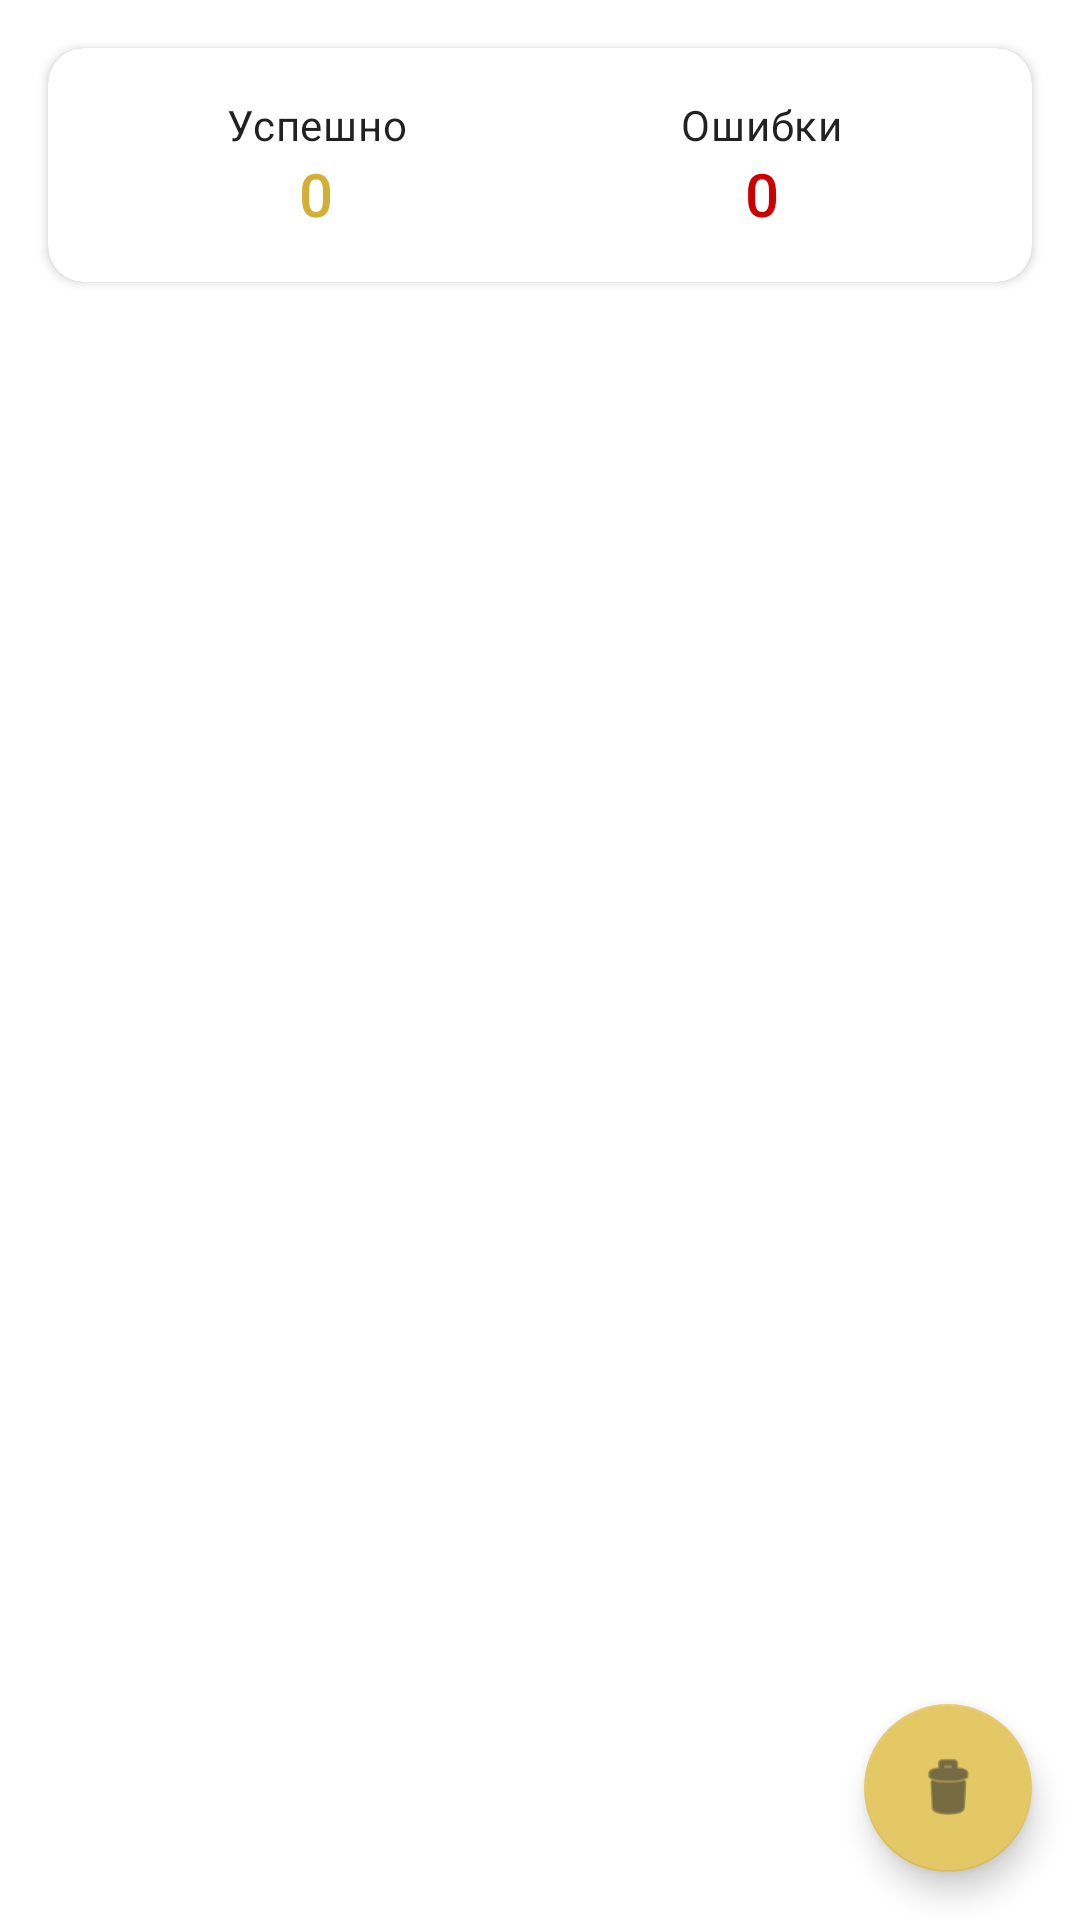

Screen size 1080×1920. Icon name, then its box in pixels as (x1, y1, x2, y2):
delete: (864, 1704, 1032, 1872)
